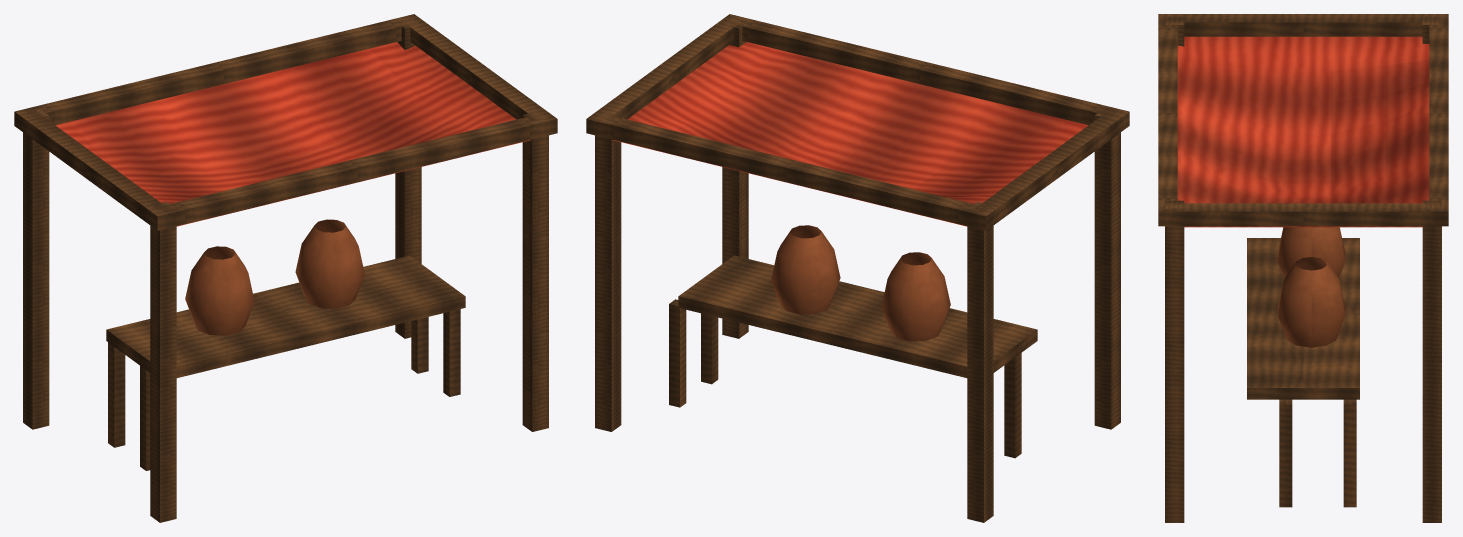
File: SM_MarketStall.fbx
3 views of the same model, side by side, from view 1: azimuth 30°, elevation 25°; view 2: azimuth 150°, elevation 25°; view 3: azimuth 270°, elevation 25° (orthographic).
Parts seen in each view (by area): view 1: SM_MarketStall; view 2: SM_MarketStall; view 3: SM_MarketStall.
Boxes of the visible parts, box(x1,y1,x2,y2) form: SM_MarketStall: box(14, 14, 557, 522); SM_MarketStall: box(586, 14, 1129, 522); SM_MarketStall: box(1158, 14, 1448, 522).
Size of the model in its own units: 290 by 215 by 180.
